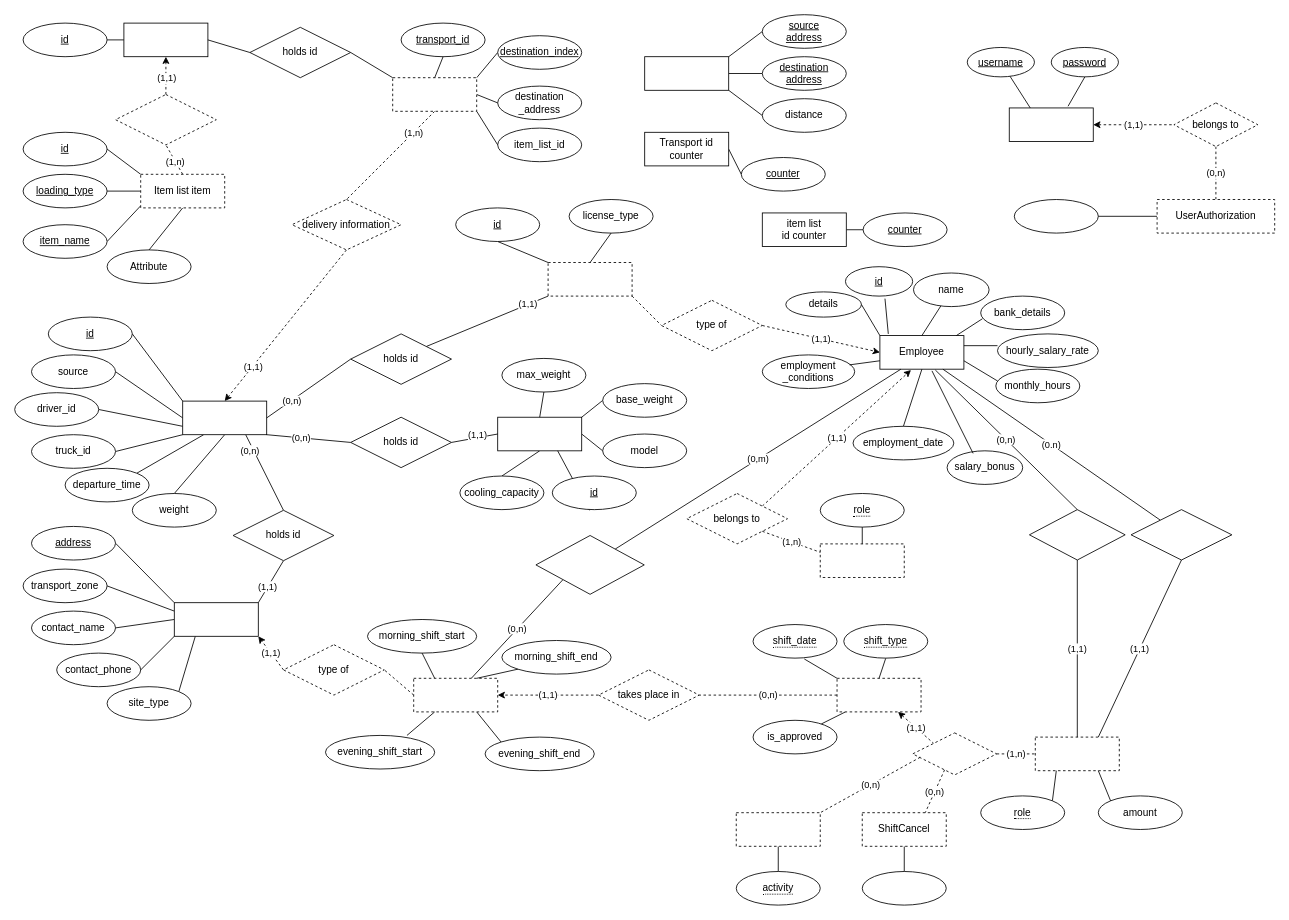
The diagram is 1289 pixels wide and 920 high, and some of its shapes have lost their labels. Here are the shapes that lost their labels. From the top down, the centre of each, then its label:
At point 165,39: "ItemList".
At point 686,73: "sites distances".
At point 434,94: "Transport destination".
At point 165,119: "keeps items".
At point 1050,124: "User".
At point 1055,216: "authorization".
At point 589,279: "Driver".
At point 224,417: "Transport".
At point 539,433: "Truck".
At point 1077,534: "ShiftWorker".
At point 1181,534: "ShiftRequest".
At point 589,564: "BranchEmployee".
At point 861,560: "EmployeeRole".
At point 215,619: "Site".
At point 455,694: "Branch".
At point 878,694: "Shift".
At point 954,753: "contained in".
At point 1076,753: "ShiftRole".
At point 777,829: "ShiftActivity".
At point 903,888: "cancel_action".
